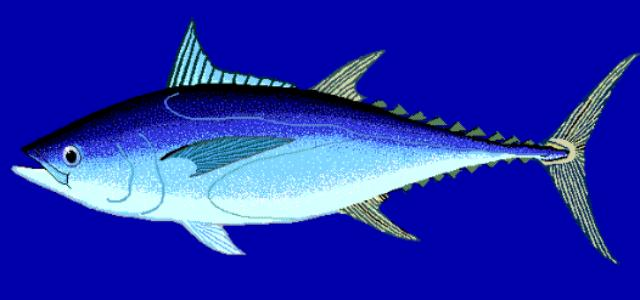Mulut: (8, 135, 66, 195)
Sirip Anal: (335, 186, 427, 252)
Sirip Dada: (168, 125, 306, 176)
Sirip Ekor: (553, 42, 635, 276)
Sirip Perut: (180, 215, 252, 261)
Sirip Punggung: (168, 14, 388, 115)
